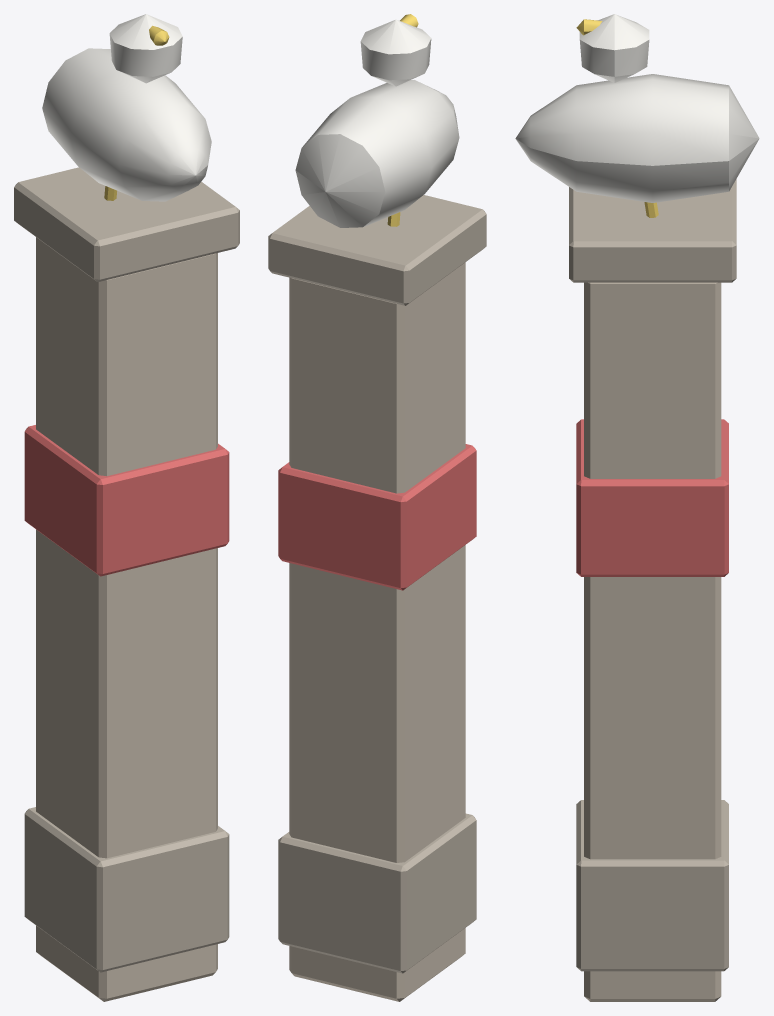
Rendered from seagull.glb.
3 renders of one model, left to right at view 1: azimuth 30°, elevation 25°; view 2: azimuth 150°, elevation 25°; view 3: azimuth 270°, elevation 25°, orthographic. The views are drawn at different scales.
Visible parts, largest first — view 1: seagull-on-post; view 2: seagull-on-post; view 3: seagull-on-post.
Part boxes in pixels (left/top/right/bottom): seagull-on-post: left=14, top=14, right=239, bottom=1001; seagull-on-post: left=268, top=14, right=486, bottom=1001; seagull-on-post: left=515, top=14, right=759, bottom=1001.
Bounding box in the file's own units: 0.2199 × 1.39 × 0.32.
